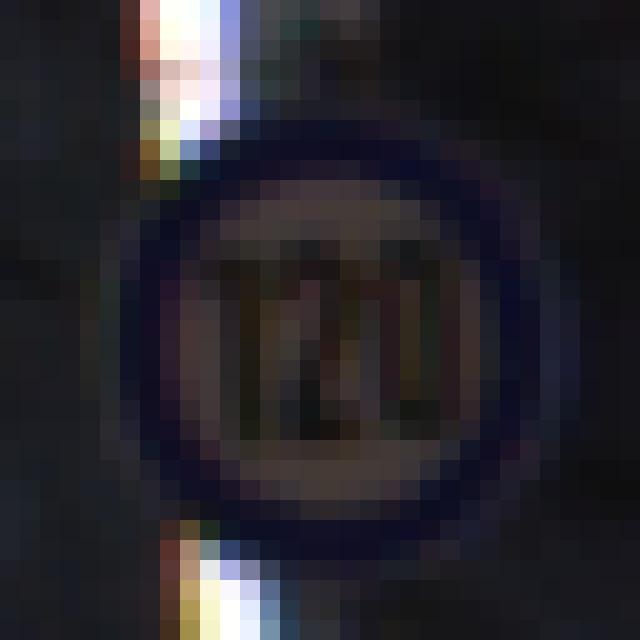SPEED LIMIT 120: (100, 136, 572, 562)
